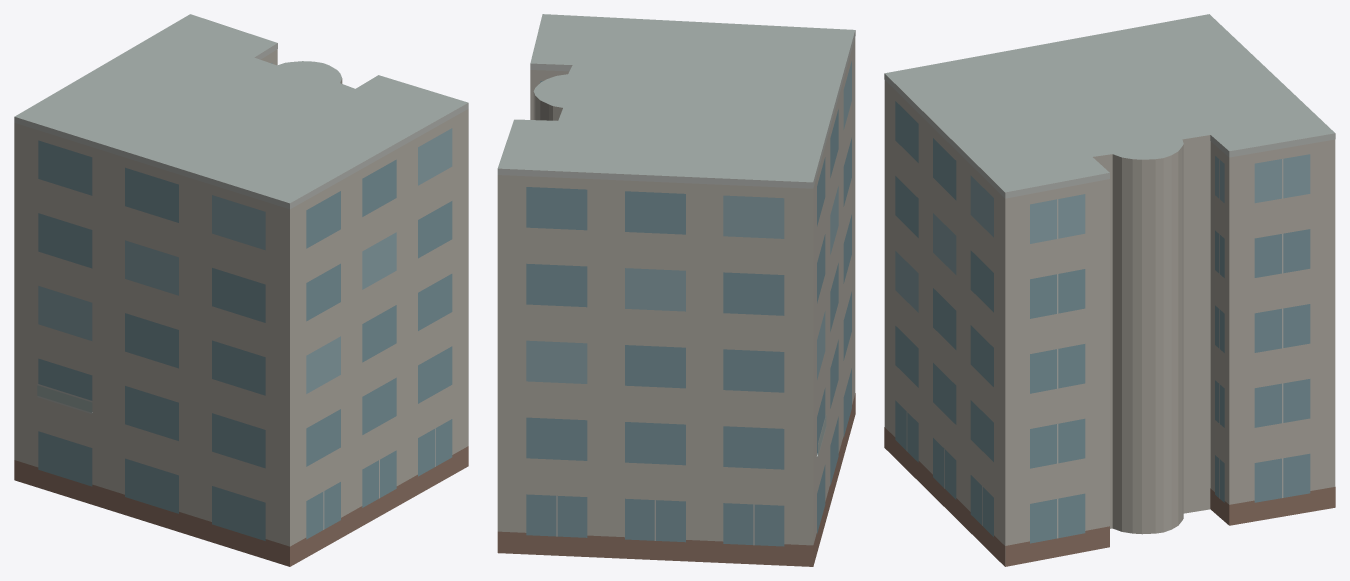
Rendered from survey-upis-32857951.glb.
The picture shows the model from 3 angles, left to right: view 1: azimuth 30°, elevation 25°; view 2: azimuth 150°, elevation 25°; view 3: azimuth 270°, elevation 25°; orthographic projection. The views are drawn at different scales.
Visible parts, largest first — view 1: survey-upis-32857951.tmp; view 2: survey-upis-32857951.tmp; view 3: survey-upis-32857951.tmp.
Boxes of the visible parts, x1,y1,x2,y2 form: survey-upis-32857951.tmp: (14, 14, 468, 566); survey-upis-32857951.tmp: (497, 14, 855, 566); survey-upis-32857951.tmp: (884, 14, 1335, 566).
Size of the model in its own units: 15.04 by 14.7 by 16.06.
